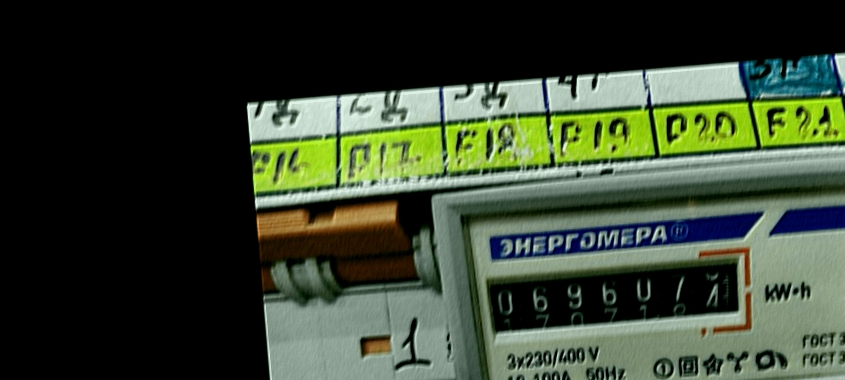0: (636, 274, 657, 305), (497, 288, 518, 318)
4: (706, 283, 724, 312)
6: (601, 278, 622, 309), (532, 284, 553, 314)
7: (672, 273, 691, 304)
9: (567, 282, 586, 312)
screen: (473, 241, 764, 353)
